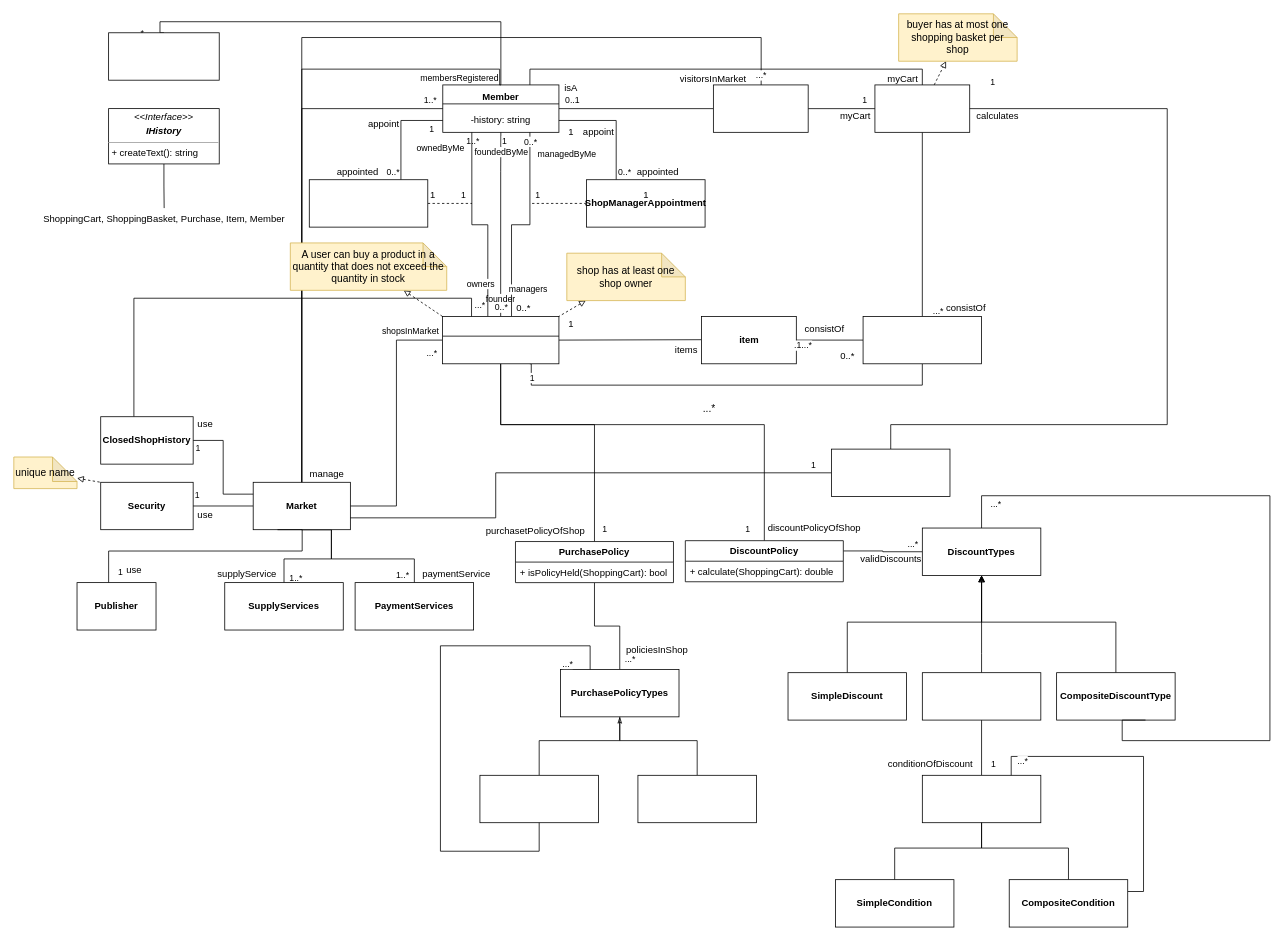
The diagram is 1285 pixels wide and 941 high, and some of its shapes have lost their labels. Here are the shapes that lost their labels. From the top down, the centre of each, then its label:
At point 163,56: "AcquisitionHistory".
At point 760,108: "Visitor".
At point 922,108: "ShoppingCart".
At point 368,203: "ShopOwnerAppointment".
At point 500,340: "Shop - purchaseHistory: string".
At point 922,340: "ShoppingBasket".
At point 890,472: "Acquisition".
At point 981,696: "ConditionalDiscount".
At point 538,799: "CompositePurchasePolicy".
At point 696,799: "SimplePolicy".
At point 981,799: "Condition".
